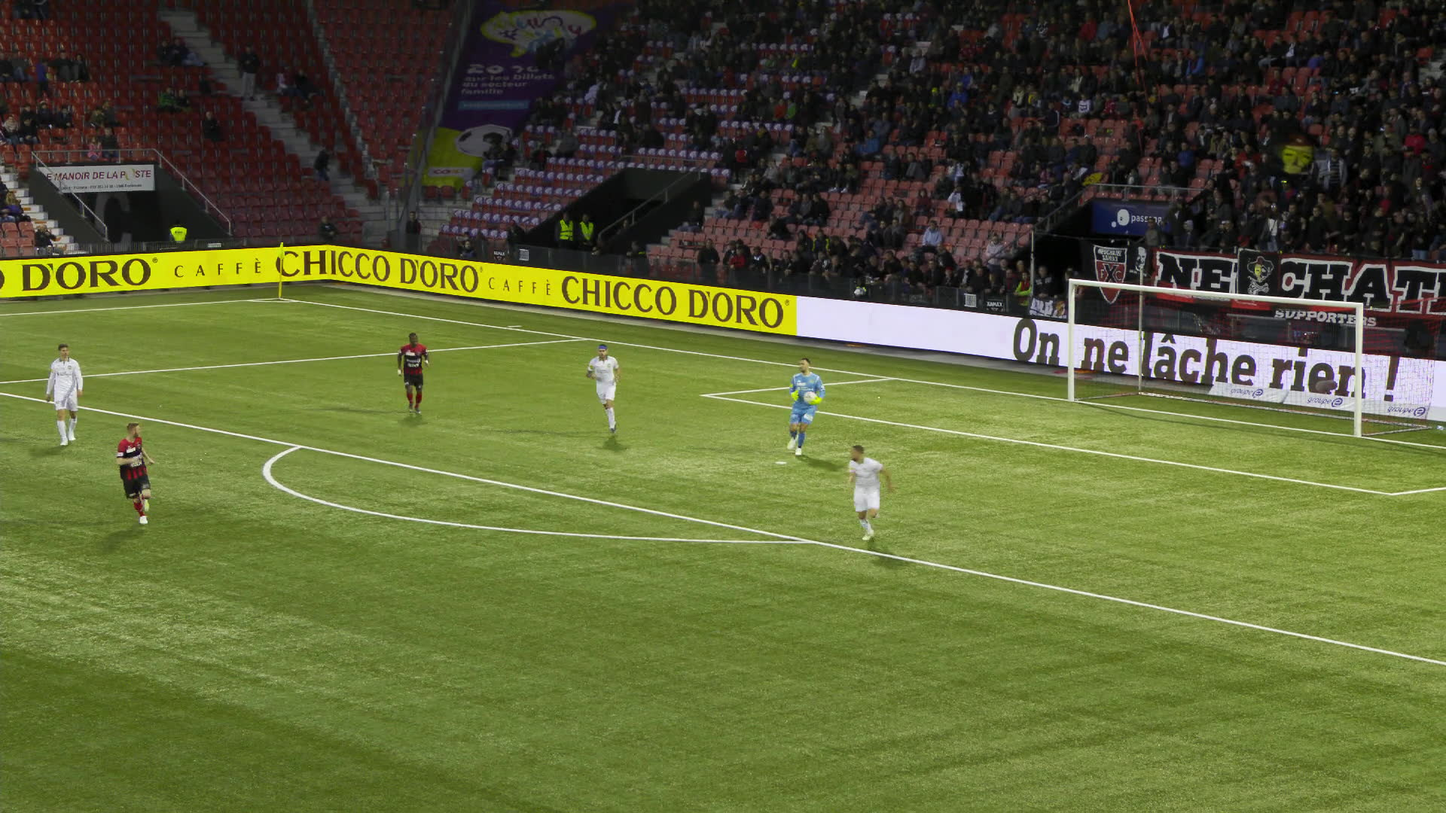ball: (804, 387, 815, 398)
player: (111, 416, 151, 522), (844, 442, 881, 544), (47, 341, 83, 443), (788, 353, 825, 450), (586, 346, 621, 437), (398, 332, 429, 414)
